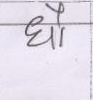ai_matra: (46, 2, 65, 22)
